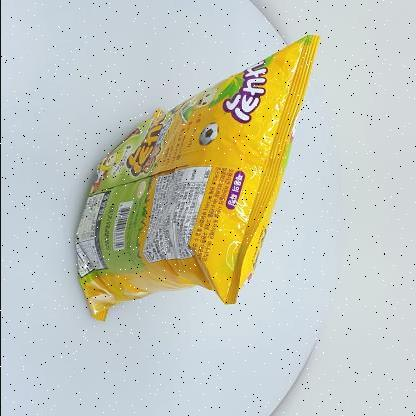Others: (67, 31, 328, 335)
